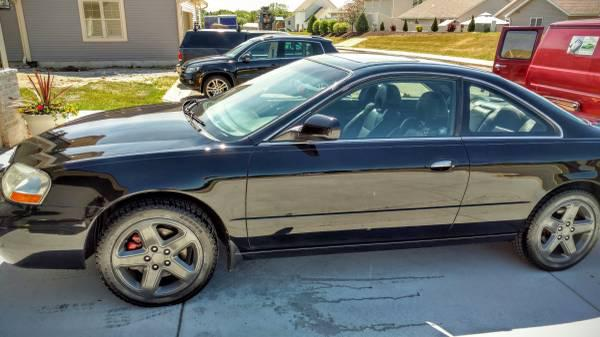acura: (1, 54, 600, 310)
